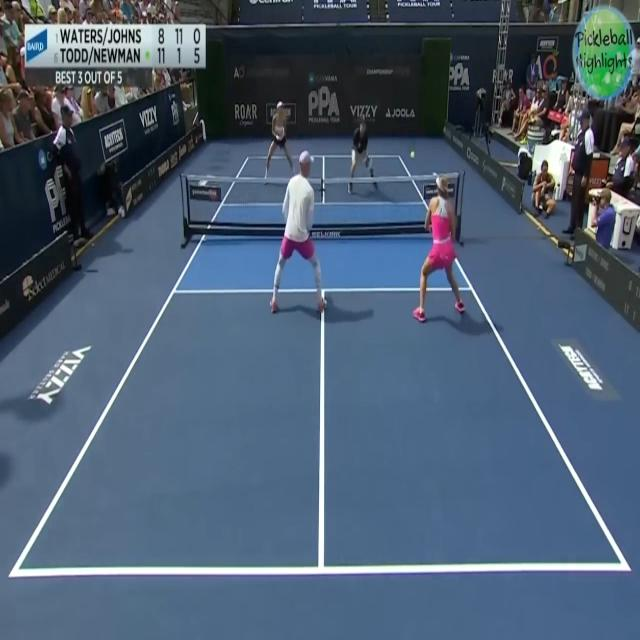Pickleball: (409, 148, 415, 159)
